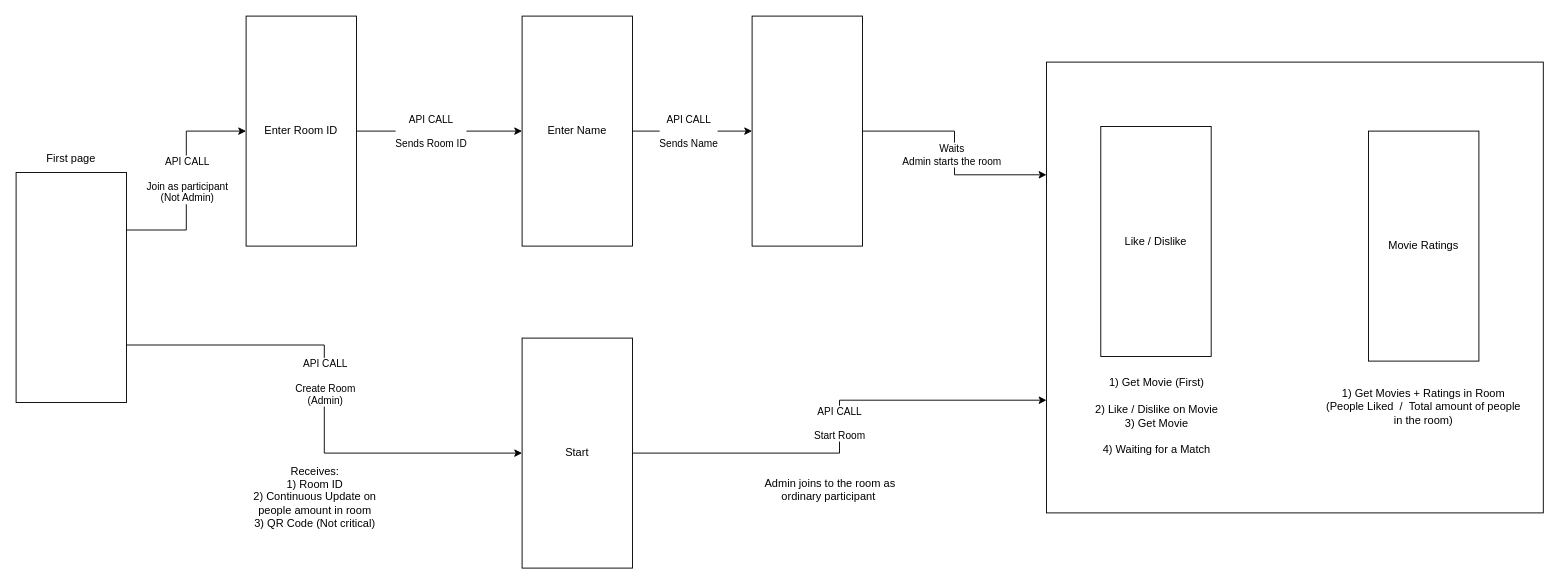
The diagram is 1559 pixels wide and 584 high, and some of its shapes have lost their labels. Here are the shapes that lost their labels. From the top down, the box of each, then its label:
(751, 15, 862, 246): Waiting
(15, 172, 126, 402): Login Create
